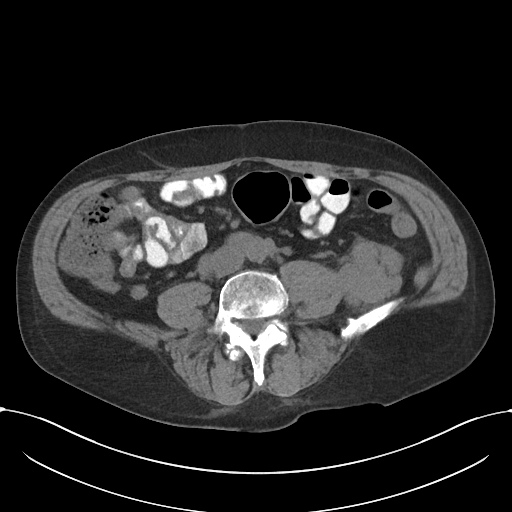Lesion: (332, 235, 408, 311)
